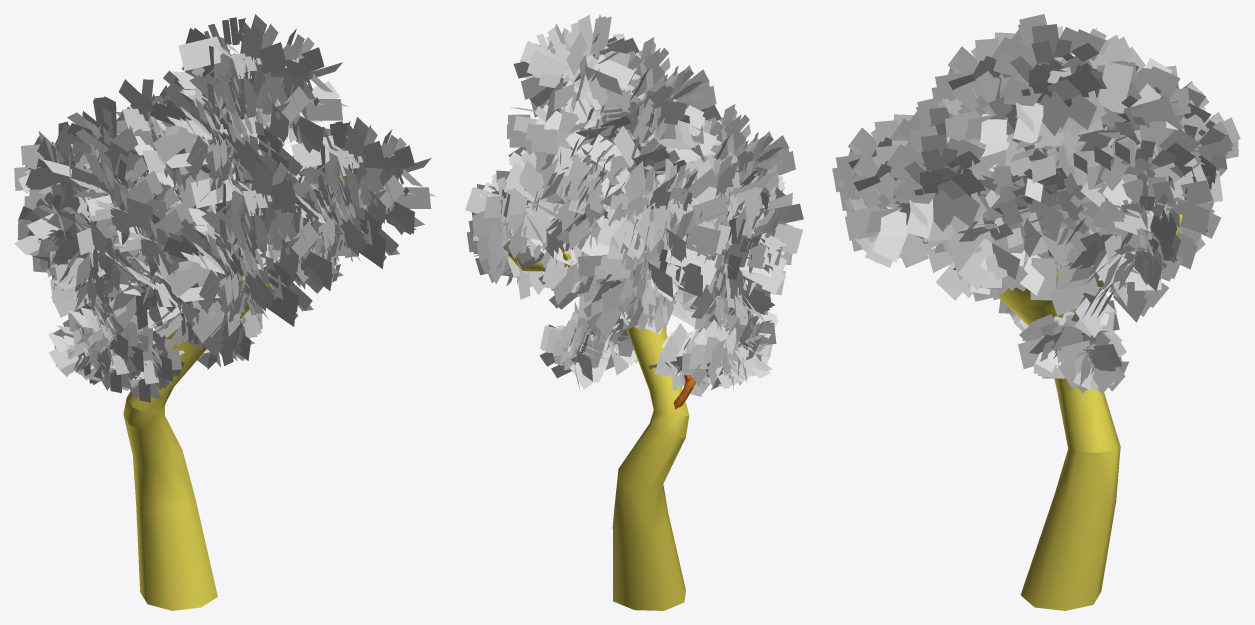
The model's file is 100_Alpha_Tronco2.fbx.
The picture shows the model from 3 angles, left to right: view 1: azimuth 30°, elevation 25°; view 2: azimuth 150°, elevation 25°; view 3: azimuth 270°, elevation 25°; orthographic projection. The views are drawn at different scales.
Parts seen in each view (by area): view 1: 100_Alpha_Tronco2; view 2: 100_Alpha_Tronco2; view 3: 100_Alpha_Tronco2.
Part boxes in pixels (x1,y1,x2,y2): 100_Alpha_Tronco2: (14, 14, 436, 610); 100_Alpha_Tronco2: (465, 14, 803, 610); 100_Alpha_Tronco2: (832, 14, 1240, 610).
Size of the model in its own units: 562 by 934 by 567.
